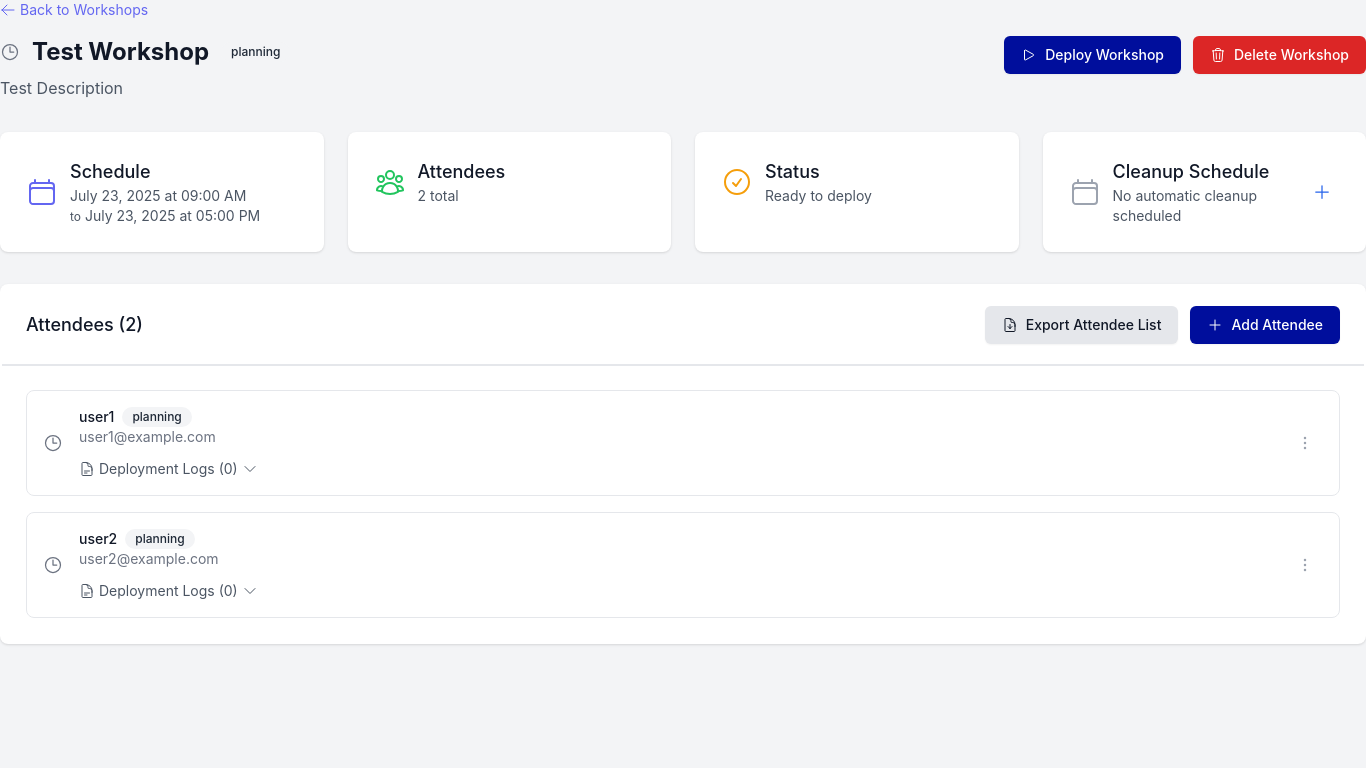
Test: WorkshopDetail ConfirmDialog Integration › Deploy Workshop Confirmation › should show custom confirmation dialog instead of window.confirm
Check: the heading "Test Workshop" is shown, box [32, 36, 209, 68]
Note: Find and click Deploy Workshop button
Click the button "Deploy Workshop": (1093, 55) [1004, 36, 1181, 74]
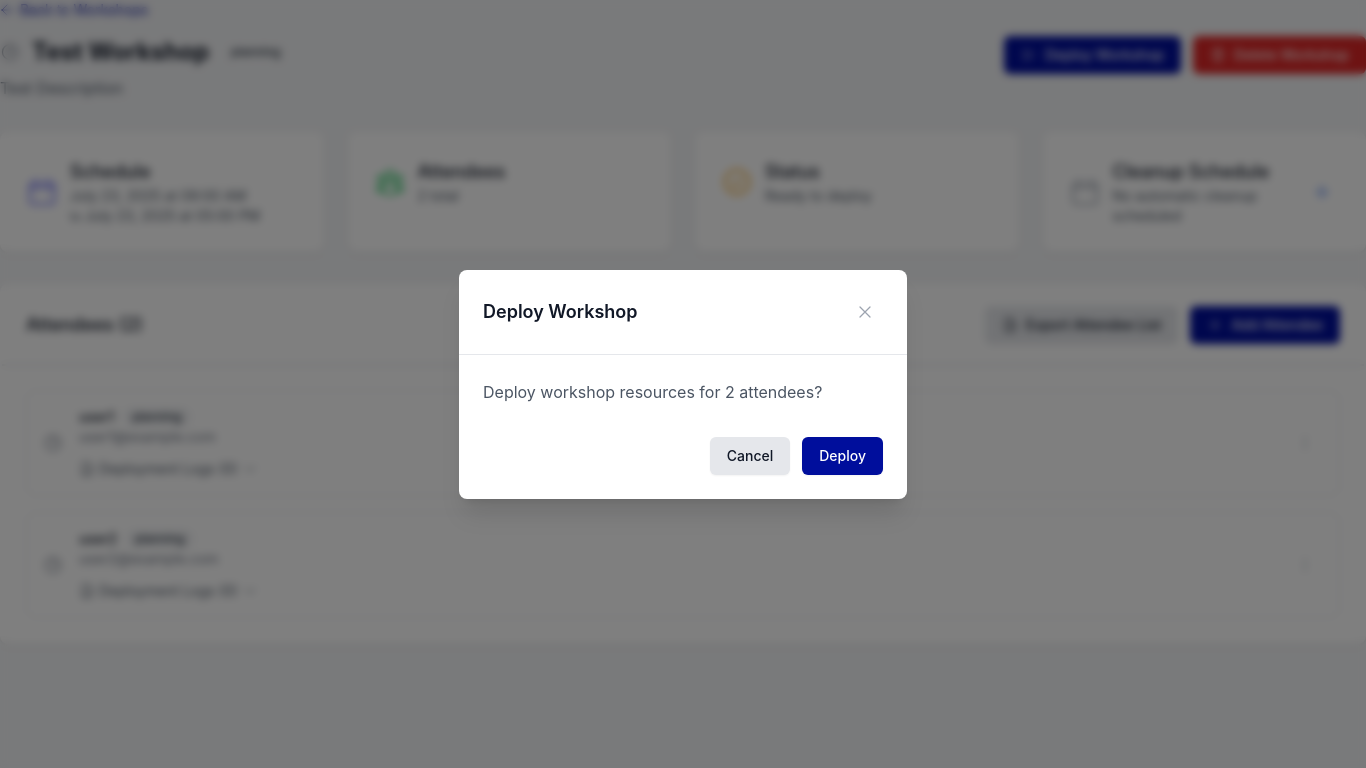
Check: the dialog is shown, box [459, 270, 907, 498]
Check: the dialog shows "Deploy Workshop", box [483, 300, 638, 322]
Check: the text "Deploy workshop resources for 2 attendees?" is shown, box [483, 382, 822, 402]
